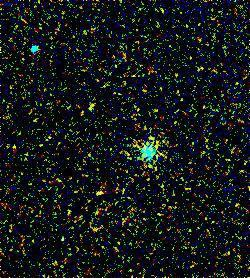star: (73, 89, 103, 119)
